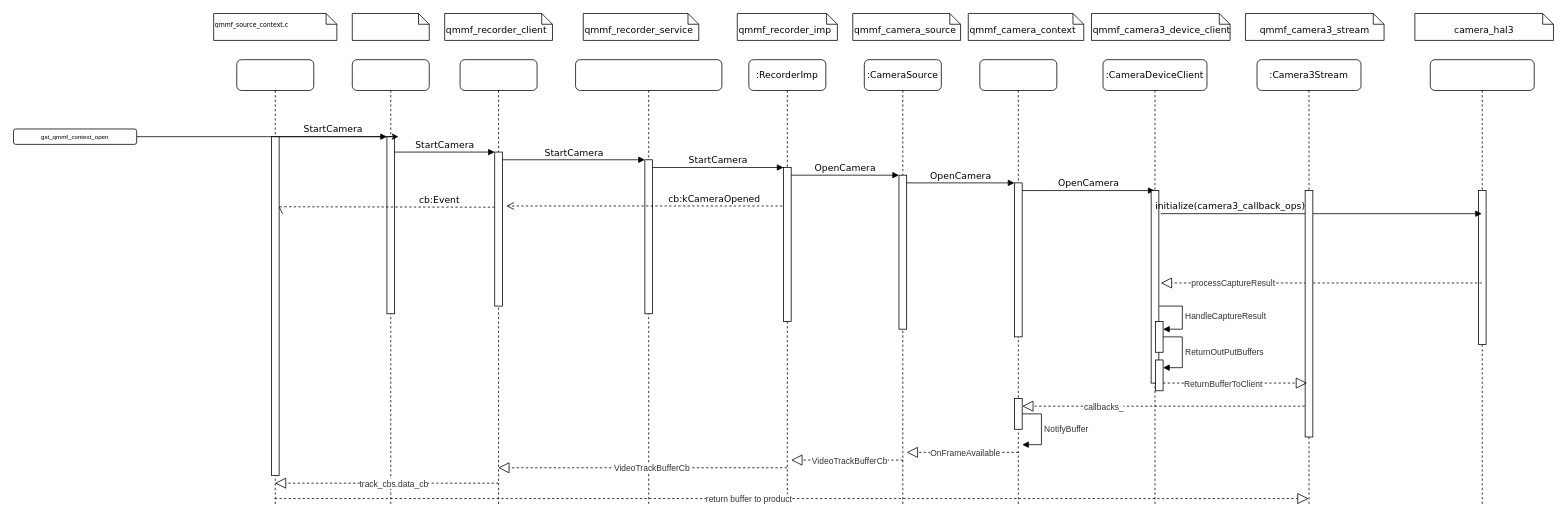
This 1567x523 diagram has some shape labels left out. Each missing label, with the box of its shape:
:CameraPort: (979, 59, 1057, 506)
:Camx: (1430, 59, 1534, 506)
:Object: (236, 59, 314, 506)
:Recorder: (352, 59, 429, 506)
:RecorderClient: (459, 59, 537, 506)
qmmf_record.c: (352, 13, 429, 40)
RecorderService: BnInterface<IRcoiderService>: (575, 59, 722, 506)
